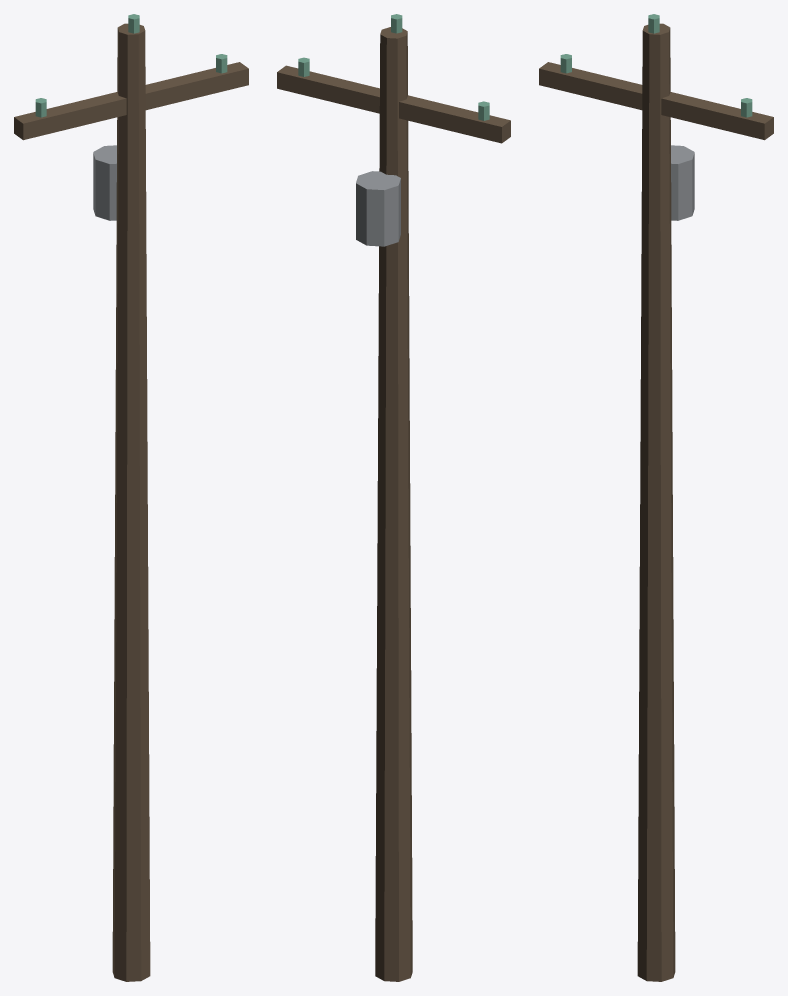
File: power-pole.glb
3 renders of one model, left to right at view 1: azimuth 30°, elevation 25°; view 2: azimuth 150°, elevation 25°; view 3: azimuth 330°, elevation 25°, orthographic.
Parts seen in each view (by area): view 1: PowerPole_Pole, PowerPole_Can, PowerPole_Glass; view 2: PowerPole_Pole, PowerPole_Can, PowerPole_Glass; view 3: PowerPole_Pole, PowerPole_Can, PowerPole_Glass.
Boxes of the visible parts, x1,y1,x2,y2 form: PowerPole_Pole: (14,23,248,981); PowerPole_Can: (93,145,116,220); PowerPole_Glass: (35,14,227,117); PowerPole_Pole: (277,27,510,981); PowerPole_Can: (356,171,400,246); PowerPole_Glass: (298,14,489,120); PowerPole_Pole: (539,23,773,981); PowerPole_Can: (671,145,694,220); PowerPole_Glass: (560,14,752,117).
Bounding box in the file's own units: 10 × 40.6 × 2.85.
